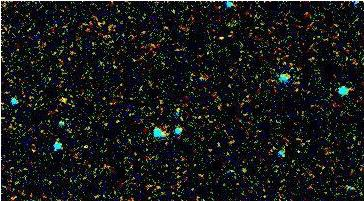star: (47, 86, 77, 116)
